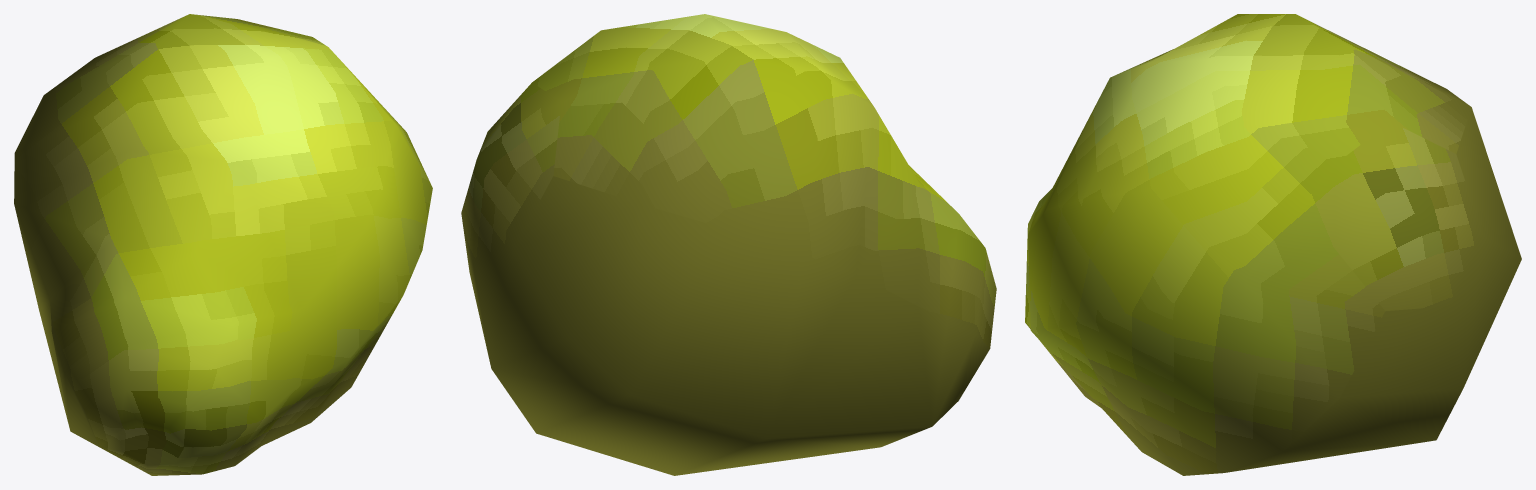
Rendered from fg_coconut.dae.
3 renders of one model, left to right at view 1: azimuth 30°, elevation 25°; view 2: azimuth 150°, elevation 25°; view 3: azimuth 270°, elevation 25°, orthographic. The views are drawn at different scales.
Visible parts, largest first — view 1: fg_coconut; view 2: fg_coconut; view 3: fg_coconut.
Part boxes in pixels (x1=…): fg_coconut: x1=14, y1=14, x2=432, y2=475; fg_coconut: x1=461, y1=14, x2=996, y2=475; fg_coconut: x1=1025, y1=14, x2=1521, y2=475.
Size of the model in its own units: 13.75 by 13.09 by 13.98.
Materials: 1 (1 with a texture image).
